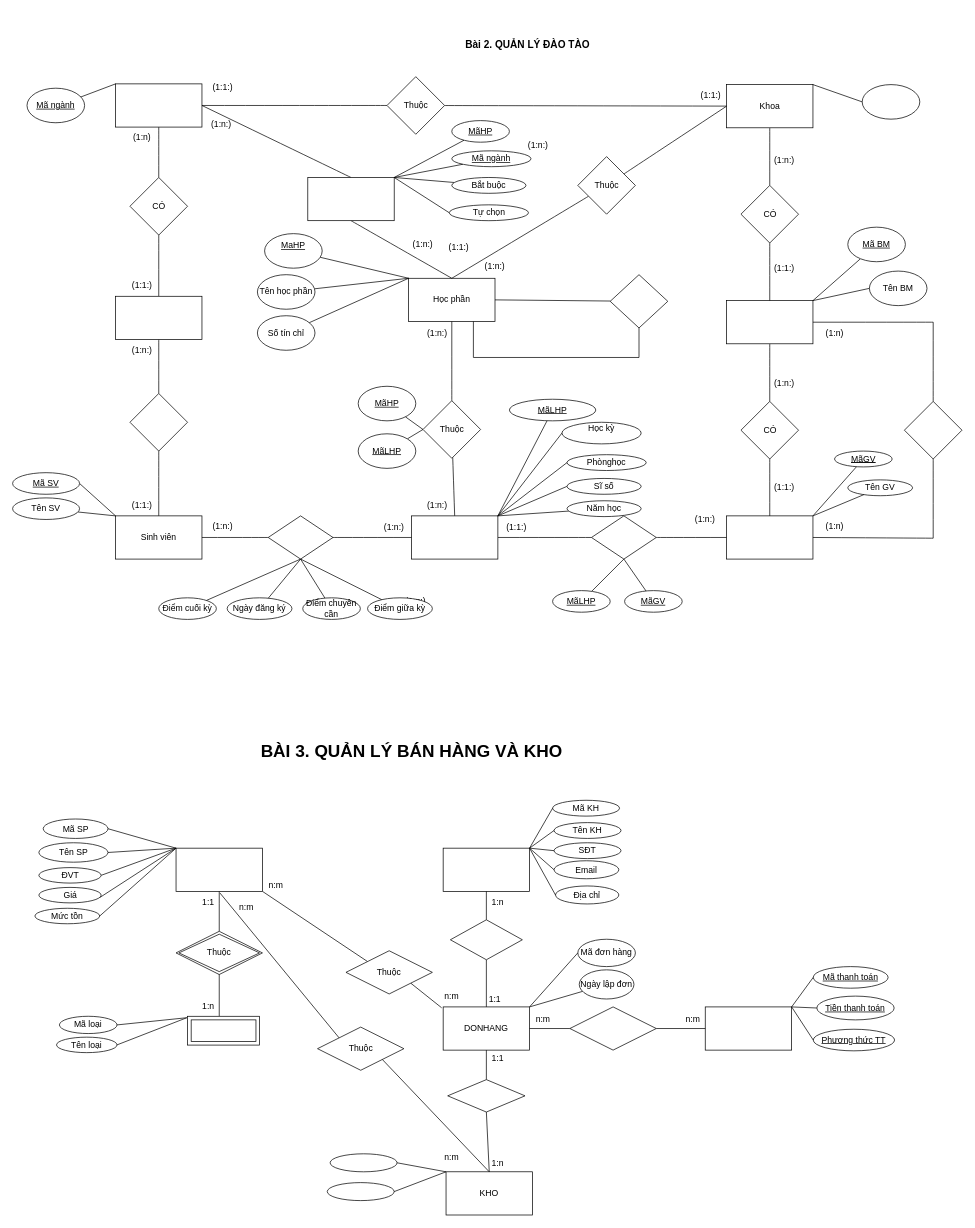
This 975x1228 diagram has some shape labels left out. Each missing label, with the centre of its shape:
"Bộ môn" belongs at point (769, 322).
"Giảng viên" belongs at point (769, 537).
"Gồm" belongs at point (158, 422).
"KHACHHANG" belongs at point (486, 869).
"LoaiSP" belongs at point (223, 1030).
"Lớp hành chính" belongs at point (158, 317).
"Lớp học phần" belongs at point (454, 537).
"Lựa chọn" belongs at point (350, 199).
"Mã kho" belongs at point (363, 1162).
"Mã khoa" belongs at point (890, 101).
"Ngành" belongs at point (158, 105).
"Quản lý" belongs at point (933, 430).
"SANPHAM" belongs at point (218, 869).
"THANHTOAN" belongs at point (748, 1028).
"Tiên quyết" belongs at point (638, 301).
"Tên kho" belongs at point (360, 1191).
"Xuất" belongs at point (486, 1095).
"Đăng ký" belongs at point (300, 537).
"Được" belongs at point (612, 1028).
"Đảm nhận" belongs at point (623, 537).
"Đặt" belongs at point (486, 939).
